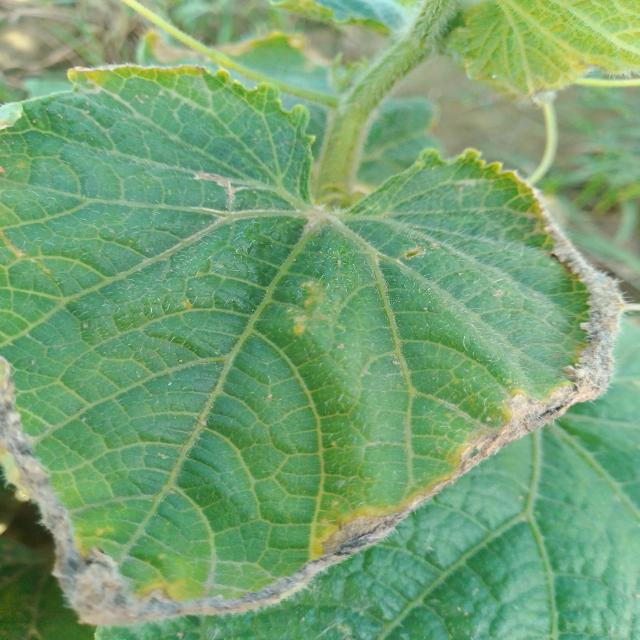cucumber_gummy: (0, 55, 640, 640)
